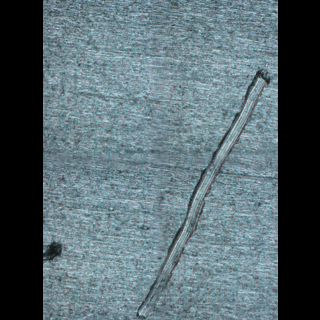d: (133, 66, 270, 319)
